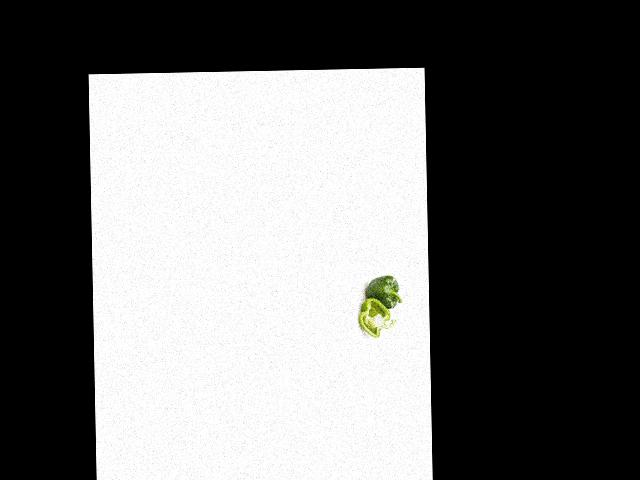bell_pepper: (359, 296, 397, 339)
